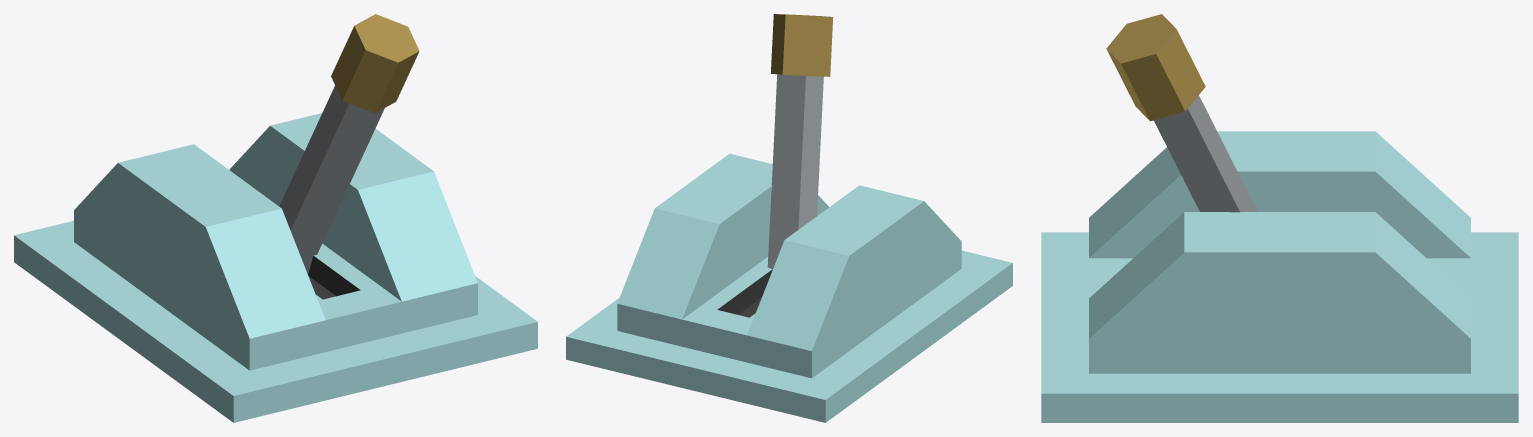
The model's file is Lever.fbx.
3 renders of one model, left to right at view 1: azimuth 30°, elevation 25°; view 2: azimuth 150°, elevation 25°; view 3: azimuth 270°, elevation 25°, orthographic. The views are drawn at different scales.
Parts seen in each view (by area): view 1: lever_base, lever; view 2: lever_base, lever; view 3: lever_base, lever.
Part boxes in pixels (x1,y1,x2,y2): lever_base: (14, 113, 537, 422); lever: (279, 14, 419, 274); lever_base: (566, 153, 1012, 422); lever: (767, 14, 833, 270); lever_base: (1041, 131, 1518, 422); lever: (1106, 14, 1257, 212).
Size of the model in its own units: 168 by 165 by 210.
